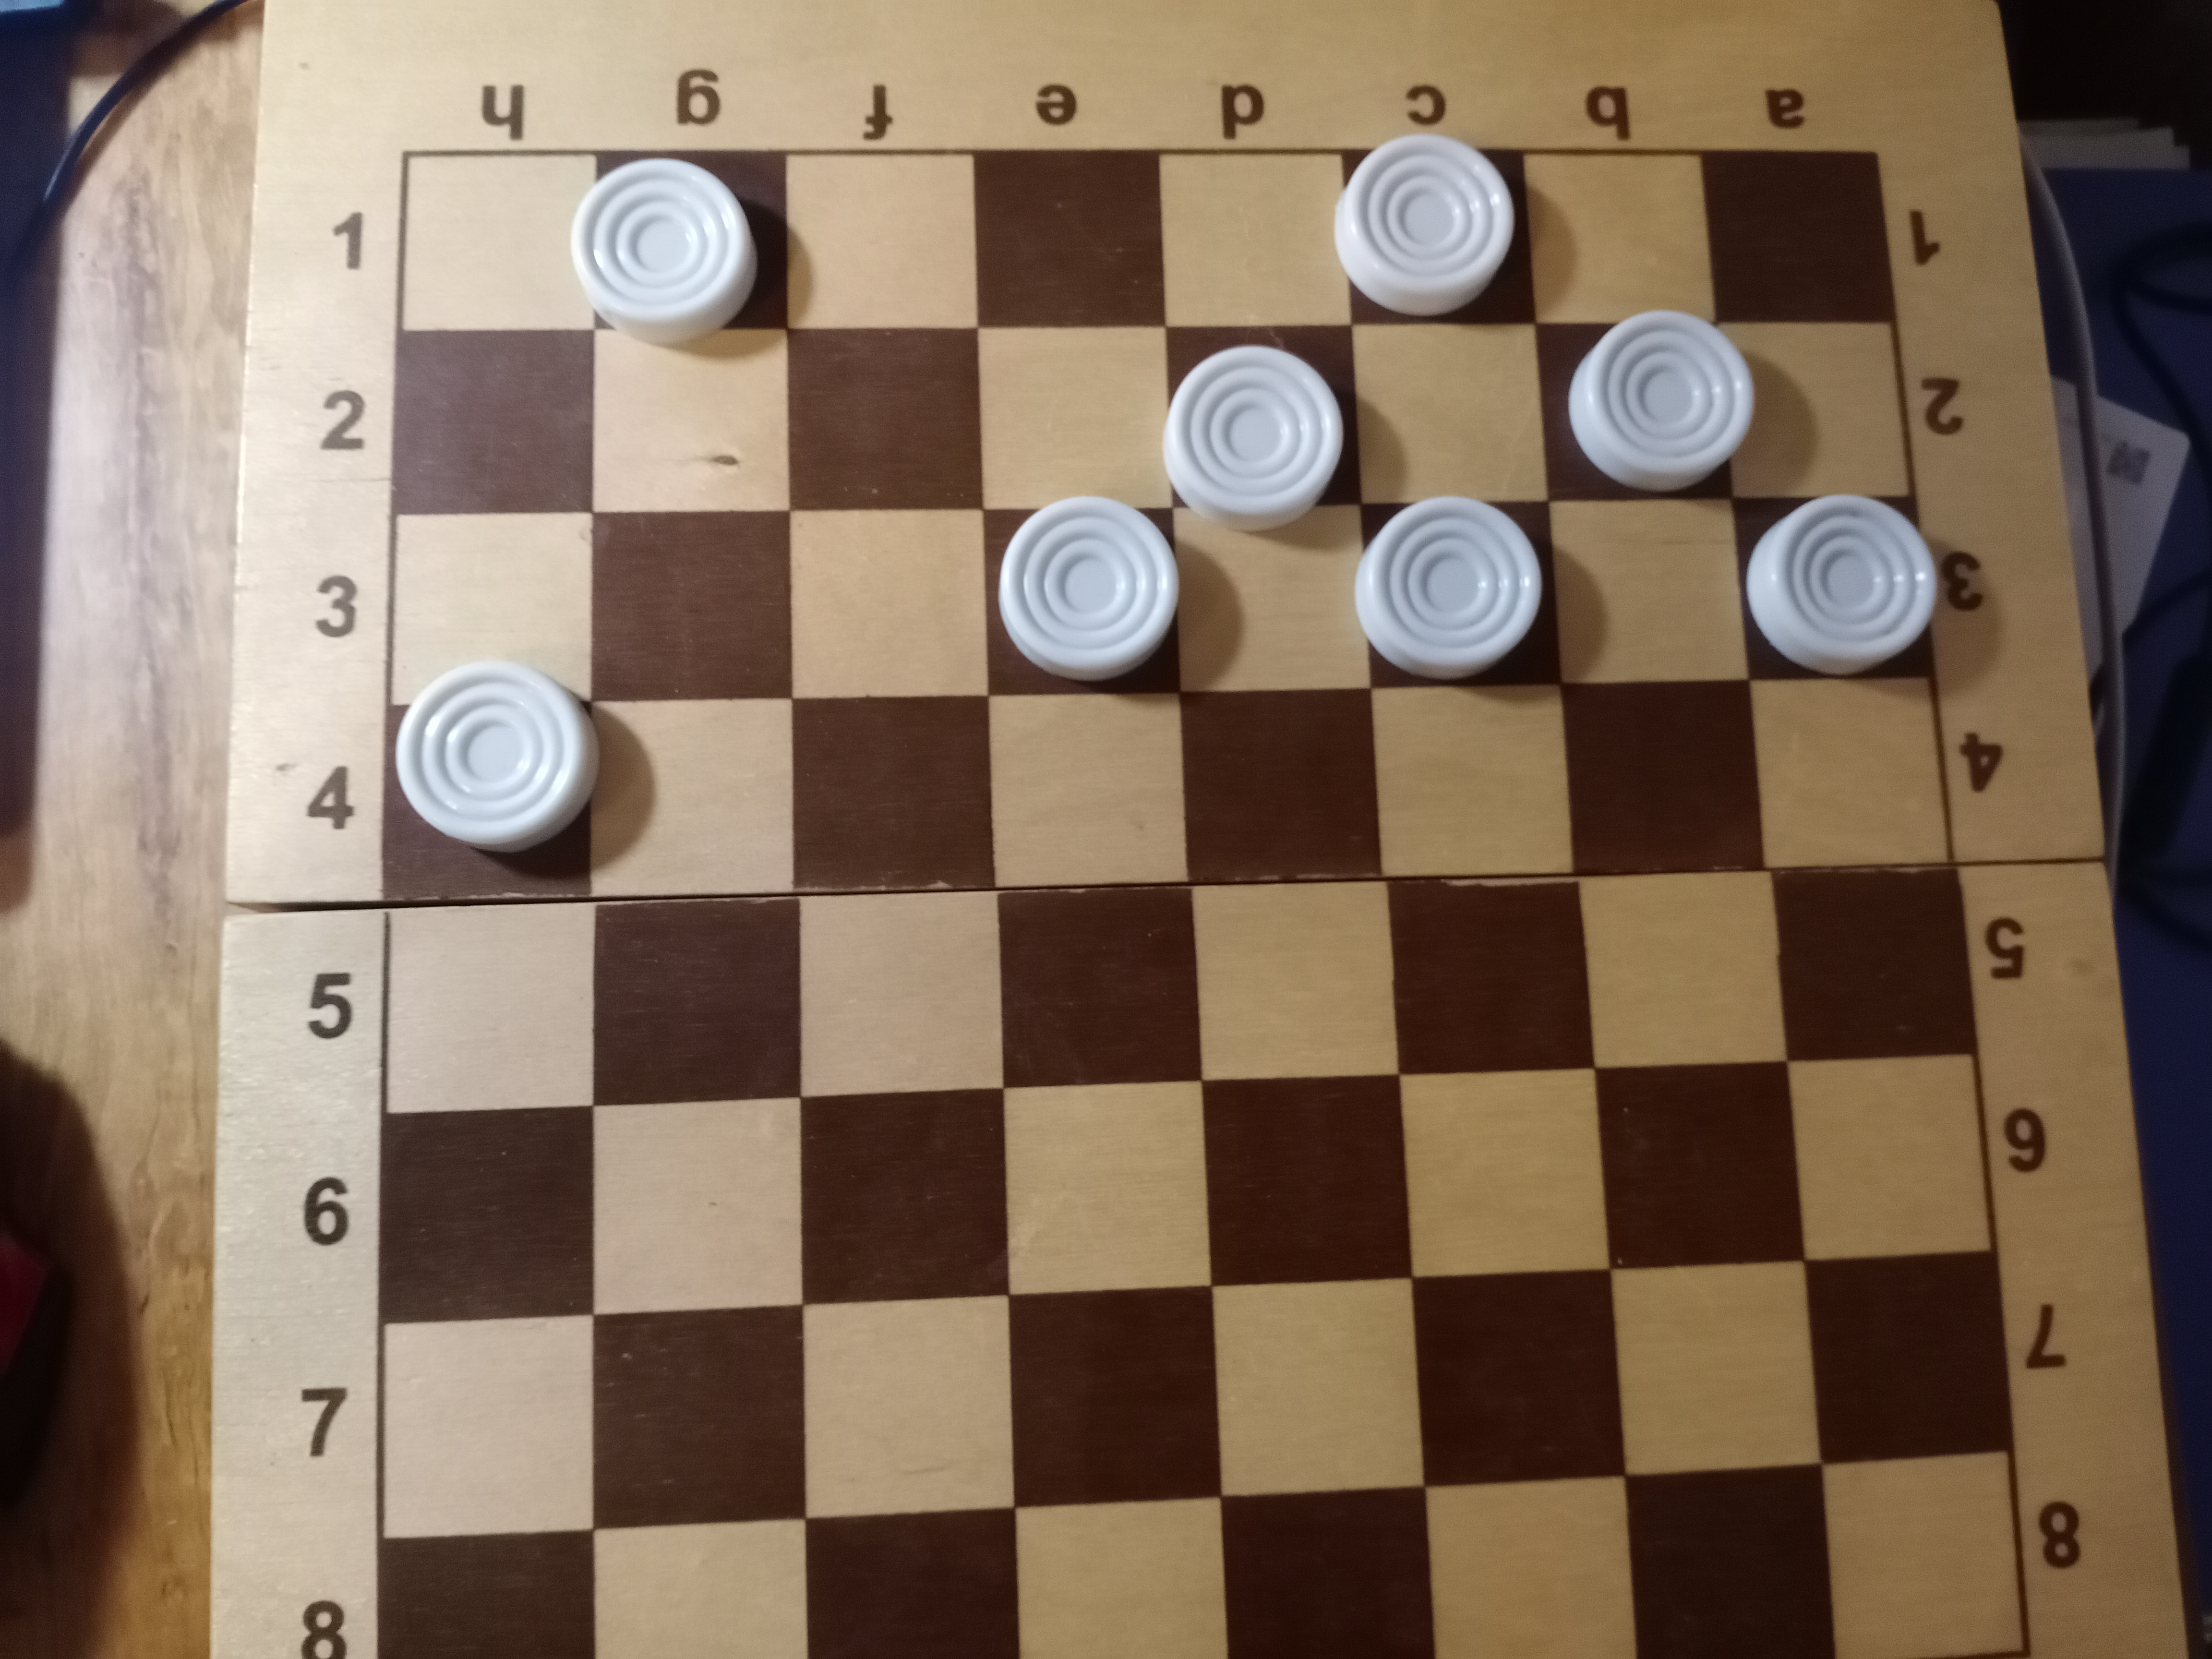White_Draught: (381, 659, 599, 899), (570, 152, 787, 345), (1536, 310, 1756, 502), (1163, 326, 1362, 532), (982, 495, 1183, 697), (1355, 497, 1566, 688), (1334, 132, 1536, 326), (1731, 495, 1939, 683)
